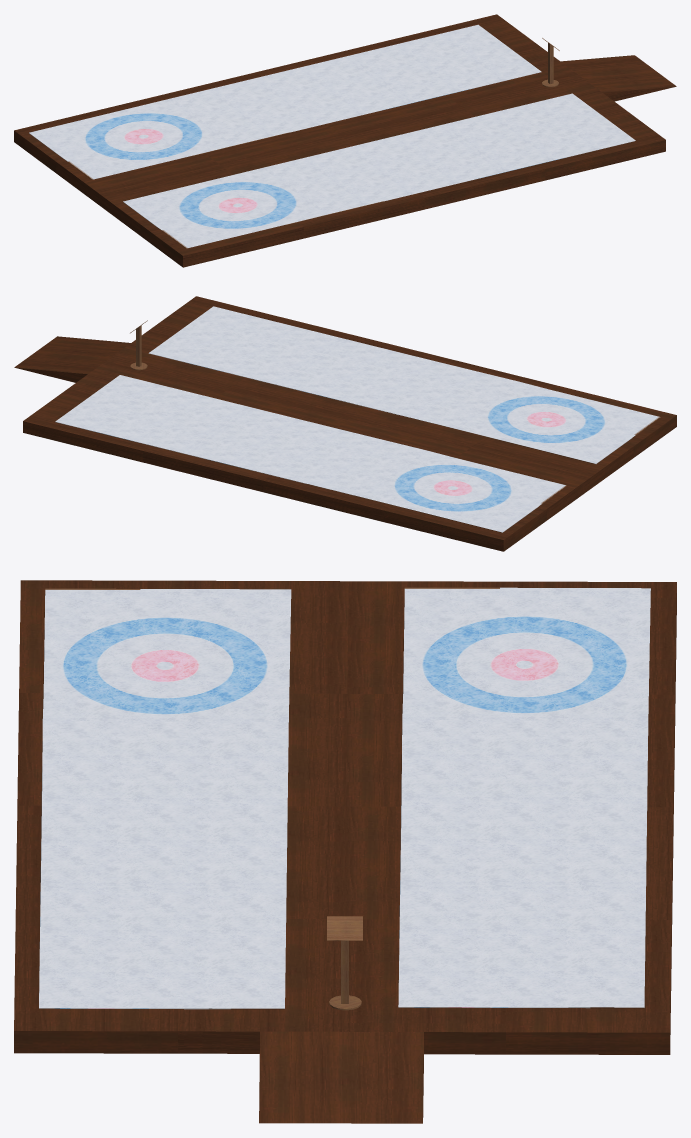
The model's file is CurlingPiste.fbx.
3 views of the same model, one above another, from view 1: azimuth 30°, elevation 25°; view 2: azimuth 150°, elevation 25°; view 3: azimuth 270°, elevation 25° (orthographic). The views are drawn at different scales.
Parts seen in each view (by area): view 1: PisteCurling, SolCurling; view 2: PisteCurling, SolCurling; view 3: PisteCurling, SolCurling, Panneau.001.
Part boxes in pixels (x1,y1,x2,y2): PisteCurling: (29,24,635,248); SolCurling: (14,14,676,267); PisteCurling: (55,306,660,532); SolCurling: (14,296,676,551); PisteCurling: (39,587,650,1009); SolCurling: (14,580,676,1123); Panneau.001: (327,916,362,1010).
Bounding box in the file's own units: 1503 × 143 × 808.
